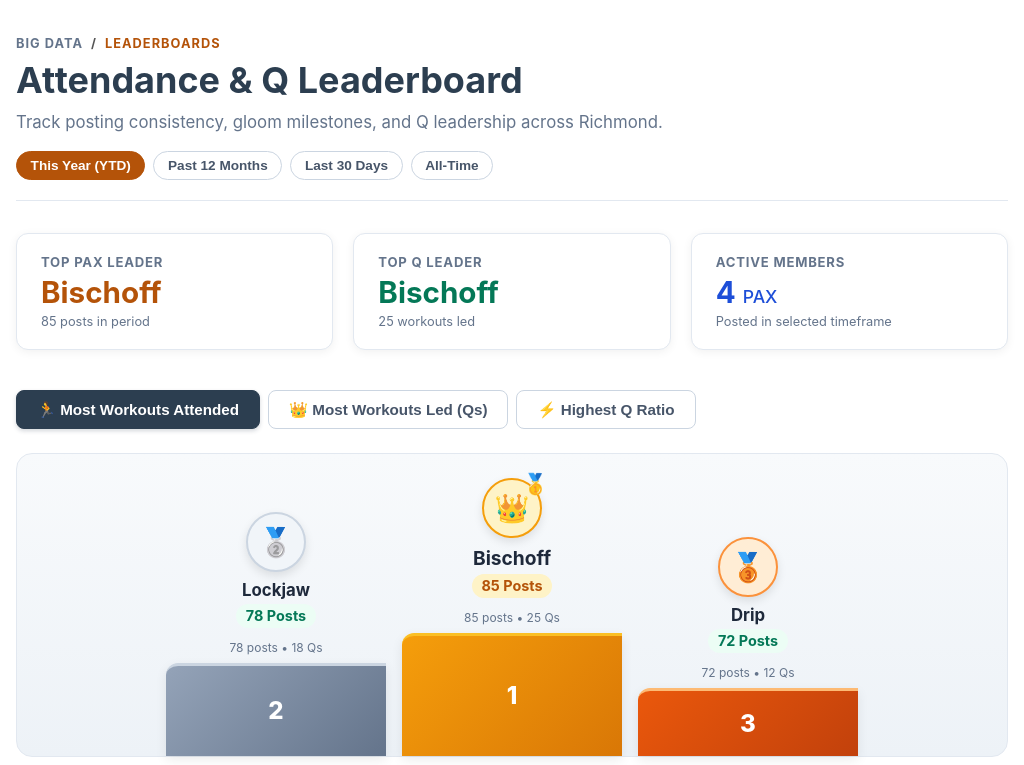
it: AttendanceLeaderboard Component › excludes member ID 123 (All PAX) and supports Q ratio threshold
Expected: the text "Bischoff" below "Top PAX Leader" is shown, [41, 274, 162, 310]
Switch to ratio metric
Step 1. Click the button "⚡ Highest Q Ratio" → (606, 410), box [516, 390, 696, 429]
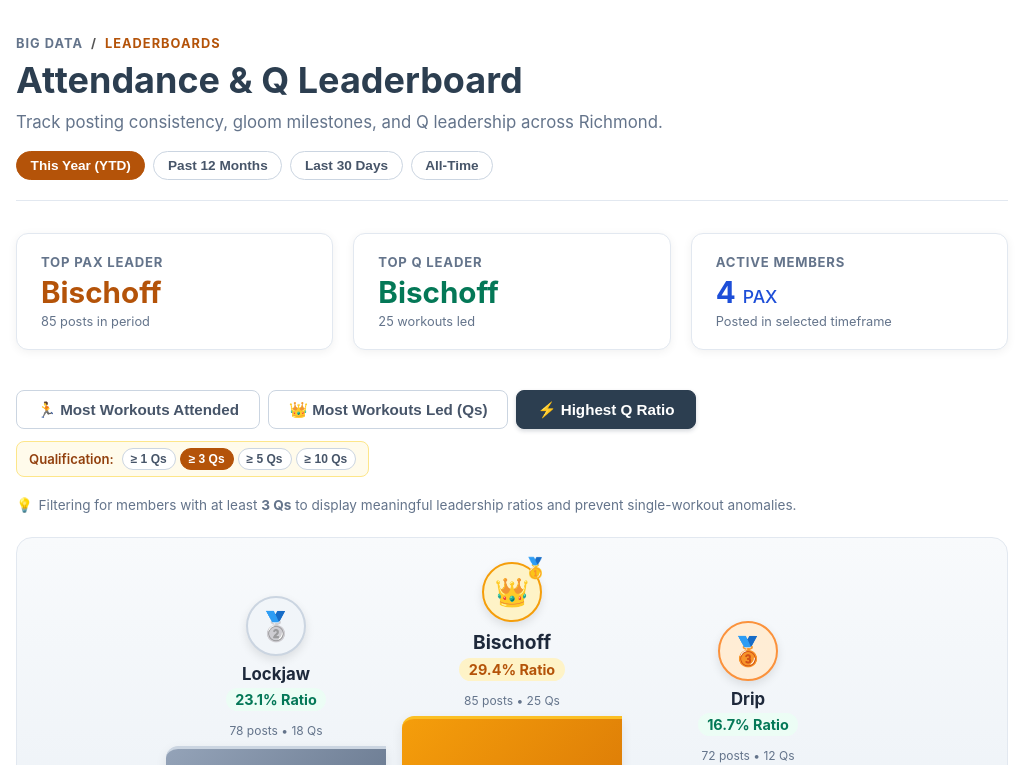
Now the button "≥ 3 Qs" is shown, box [180, 448, 234, 470]
Now the button "≥ 5 Qs" is shown, box [238, 448, 292, 470]
